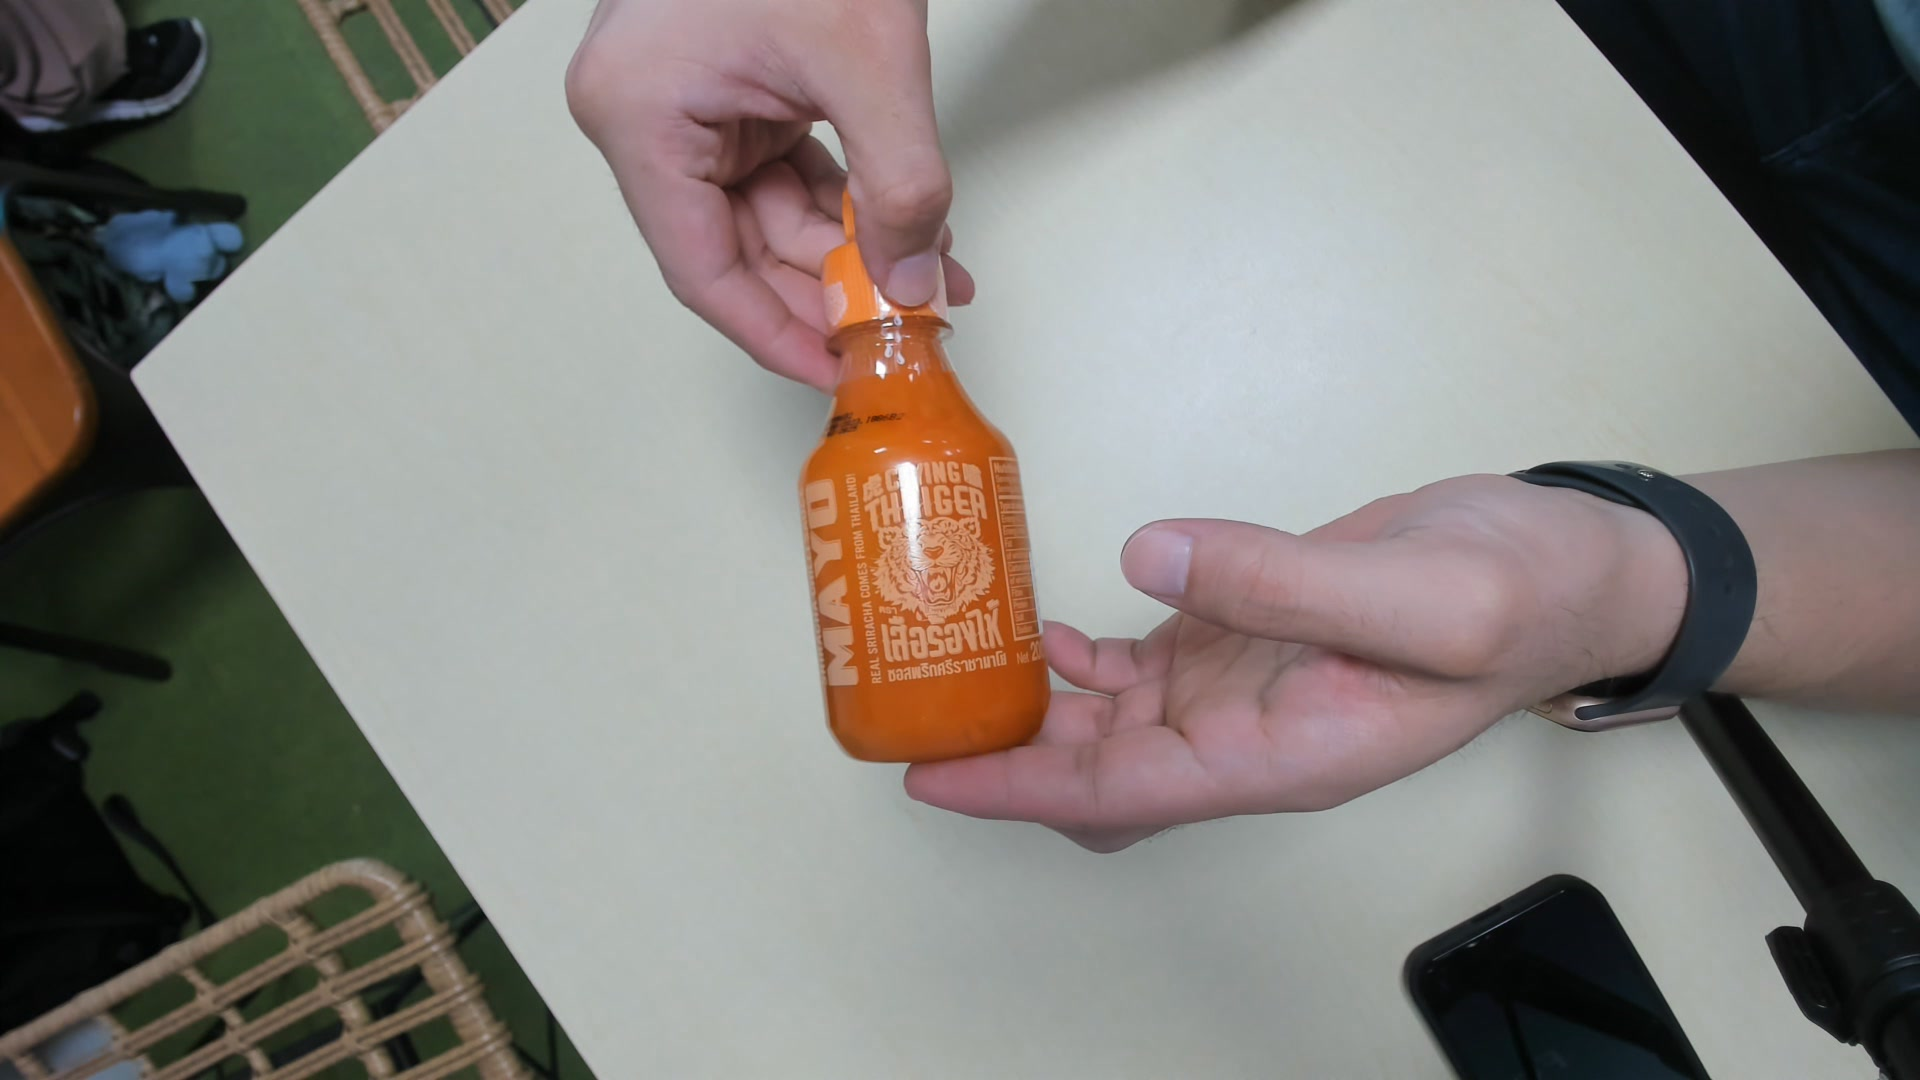OtherSauceDressing_200-299g_NonHalal_NonHealthy: (789, 179, 1052, 752)
